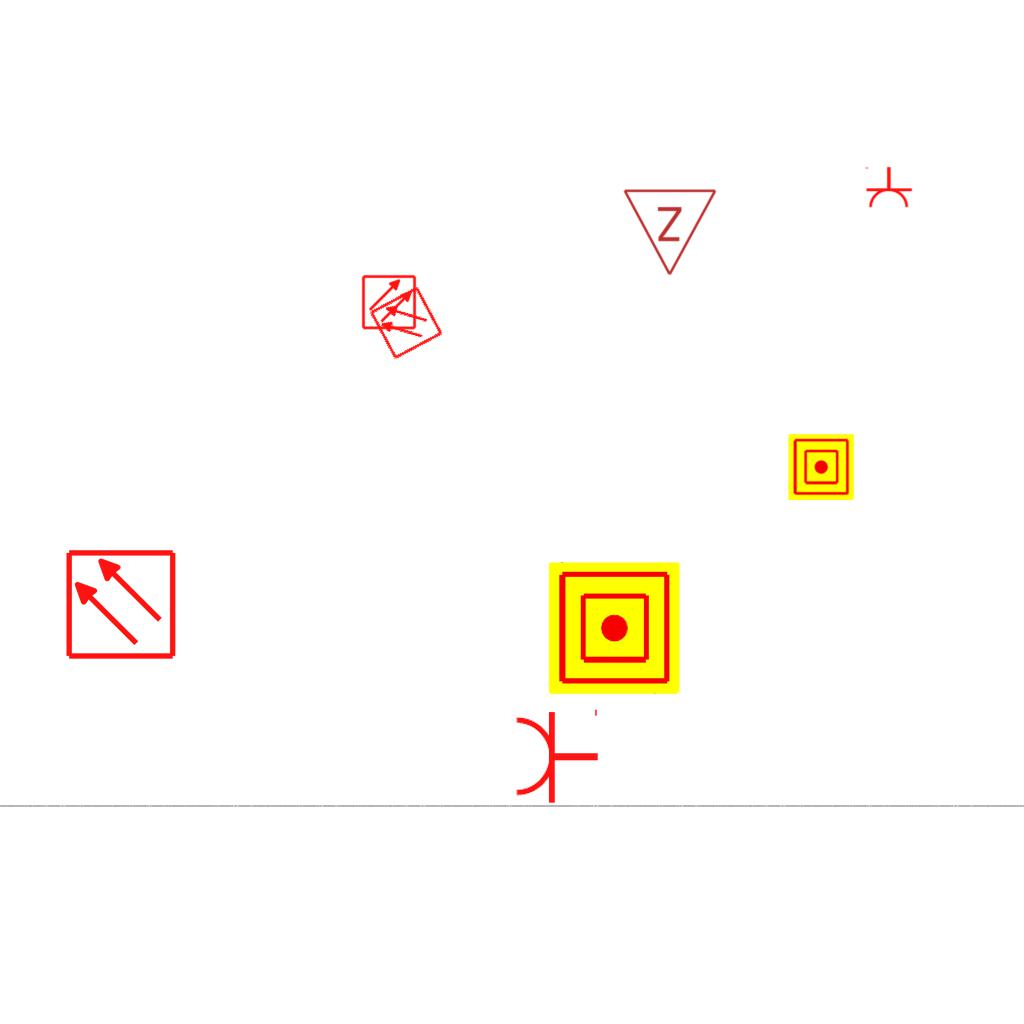NAM-Nichtautomatischer_Melder: (548, 562, 680, 694), (788, 434, 854, 500)
RMO_Rauchmelder_optischer: (64, 548, 177, 661), (368, 285, 444, 361), (361, 274, 417, 330)
Schukosteckdose_einfach: (513, 705, 600, 805), (863, 166, 913, 209)
Zimmersignalleuchte: (622, 182, 720, 282)
